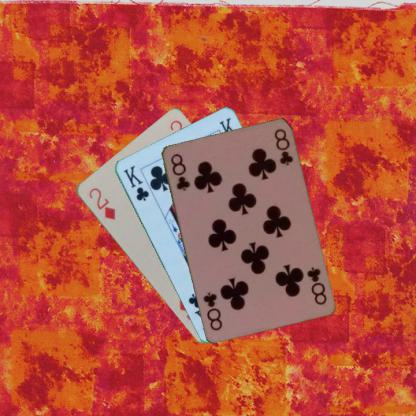2d: (86, 185, 117, 221)
8c: (304, 264, 328, 306), (168, 151, 191, 192)
Kc: (121, 162, 150, 202)
